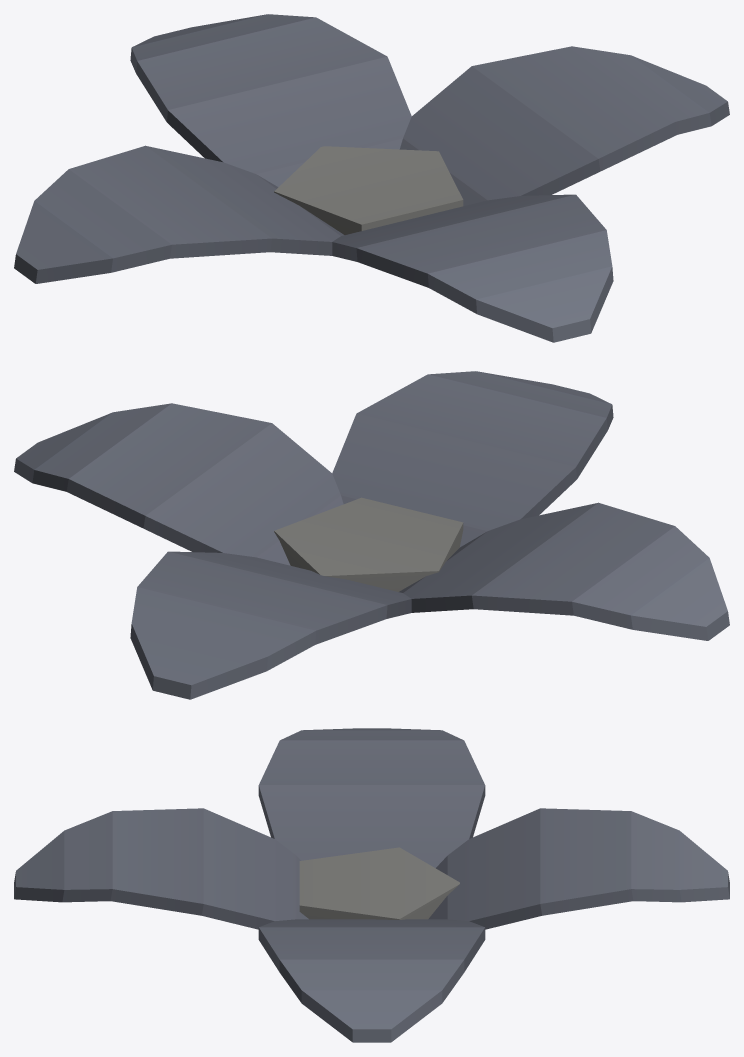
File: Flower_06.fbx
3 views of the same model, one above another, from view 1: azimuth 30°, elevation 25°; view 2: azimuth 150°, elevation 25°; view 3: azimuth 270°, elevation 25° (orthographic). The views are drawn at different scales.
Parts seen in each view (by area): view 1: Flower_06; view 2: Flower_06; view 3: Flower_06.
Part boxes in pixels (x1,y1,x2,y2): Flower_06: [14, 14, 729, 342]; Flower_06: [14, 371, 729, 699]; Flower_06: [14, 728, 729, 1042].
Size of the model in its own units: 0.2997 by 0.0355 by 0.2997.
